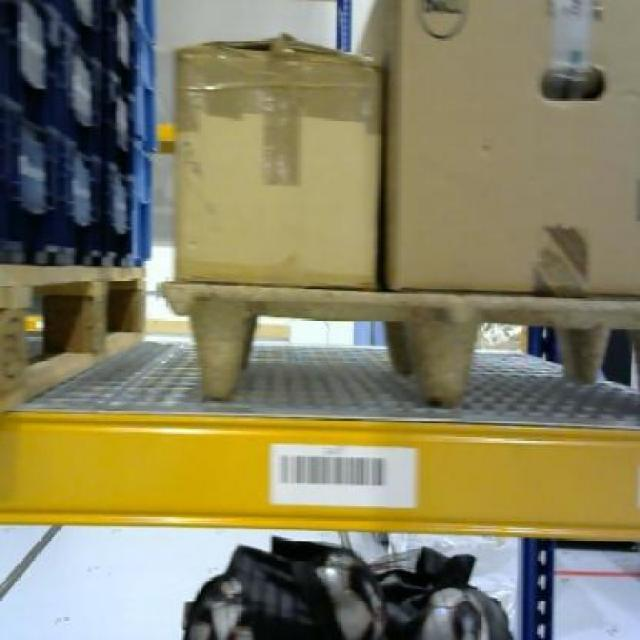box: (390, 0, 639, 296), (170, 31, 378, 287)
